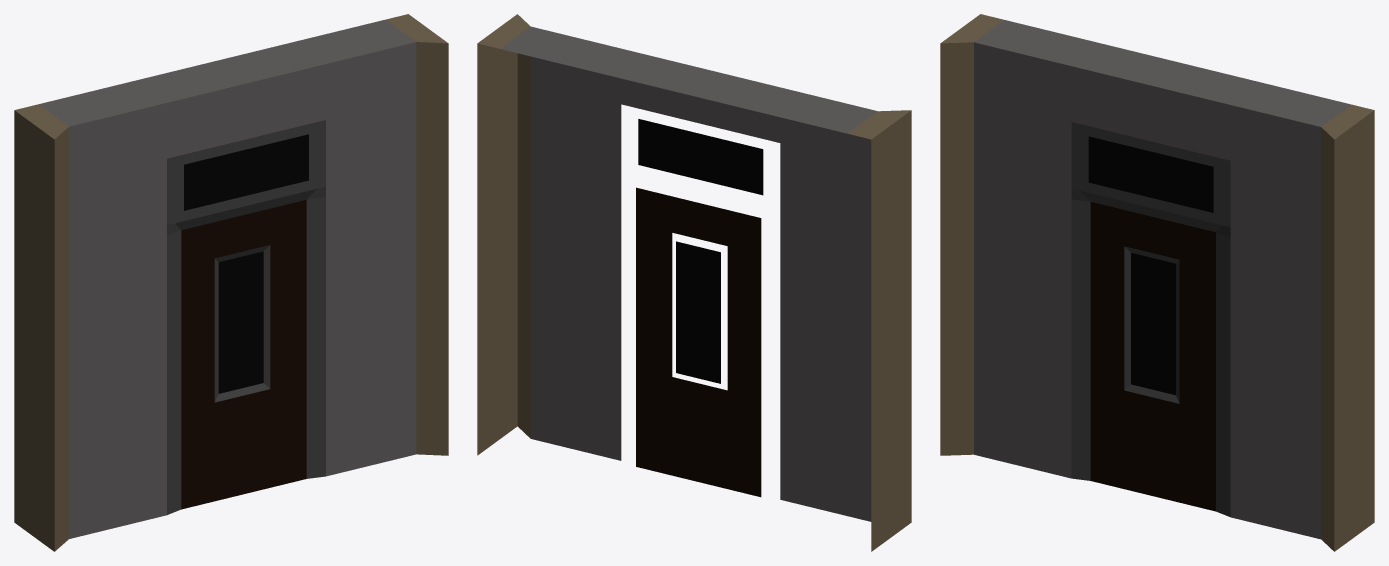
Rendered from ground_floor_wall_01.fbx.
3 renders of one model, left to right at view 1: azimuth 30°, elevation 25°; view 2: azimuth 150°, elevation 25°; view 3: azimuth 330°, elevation 25°, orthographic.
Parts seen in each view (by area): view 1: ground_floor_wall_01; view 2: ground_floor_wall_01; view 3: ground_floor_wall_01.
Boxes of the visible parts, x1,y1,x2,y2 form: ground_floor_wall_01: (14, 14, 448, 551); ground_floor_wall_01: (477, 14, 911, 551); ground_floor_wall_01: (940, 14, 1374, 551).
Bounding box in the file's own units: 300 × 300 × 53.02.
